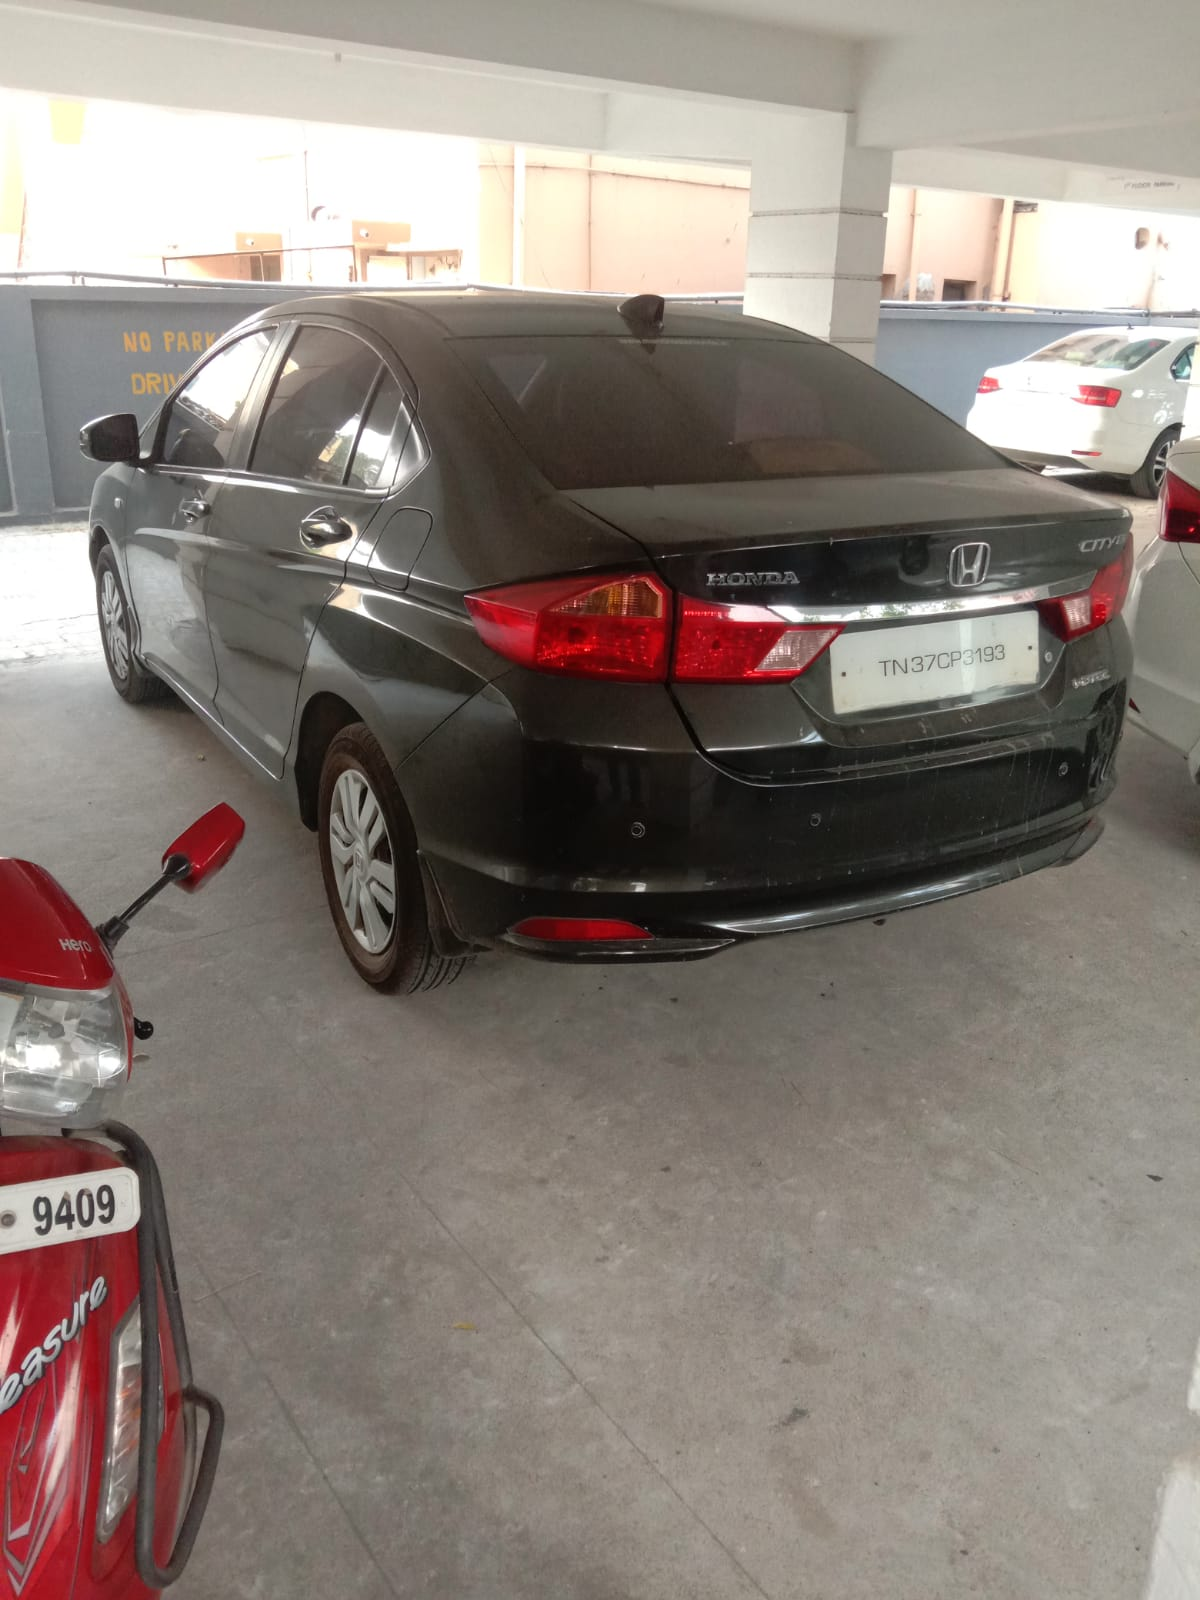car: (40, 251, 1171, 1057)
numberplate: (813, 598, 1070, 724)
